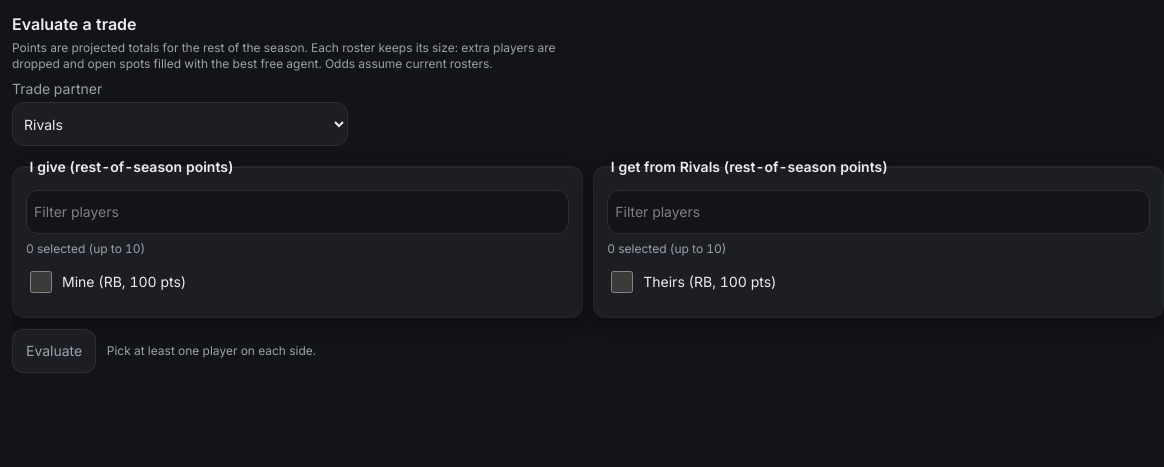
Test: evaluator › offers retry when busy
The image size is (1164, 467).
Click the checkbox labelled "Mine (RB, 100 pts)" at (40, 282), box [30, 271, 52, 293]
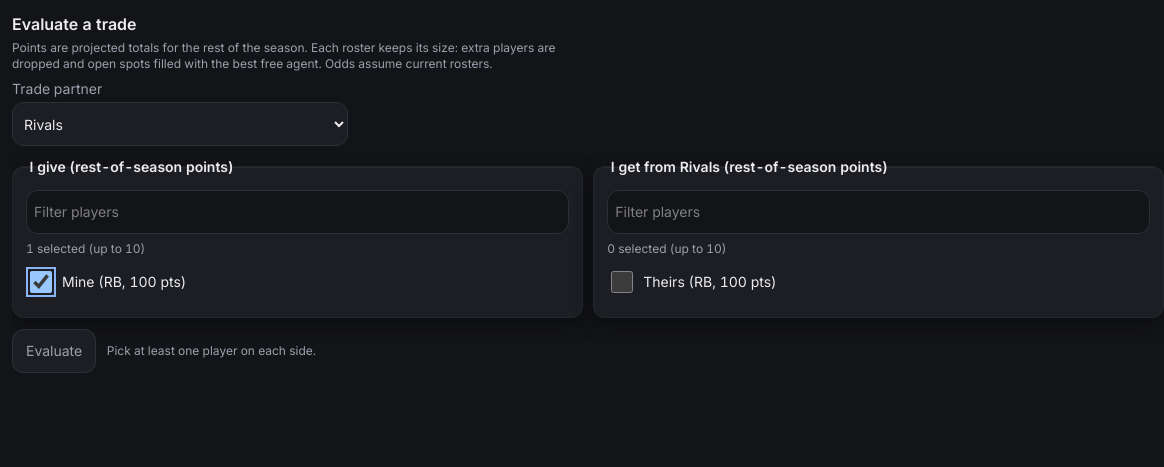
Click the checkbox labelled "Theirs (RB, 100 pts)" at (622, 282), box [611, 271, 633, 293]
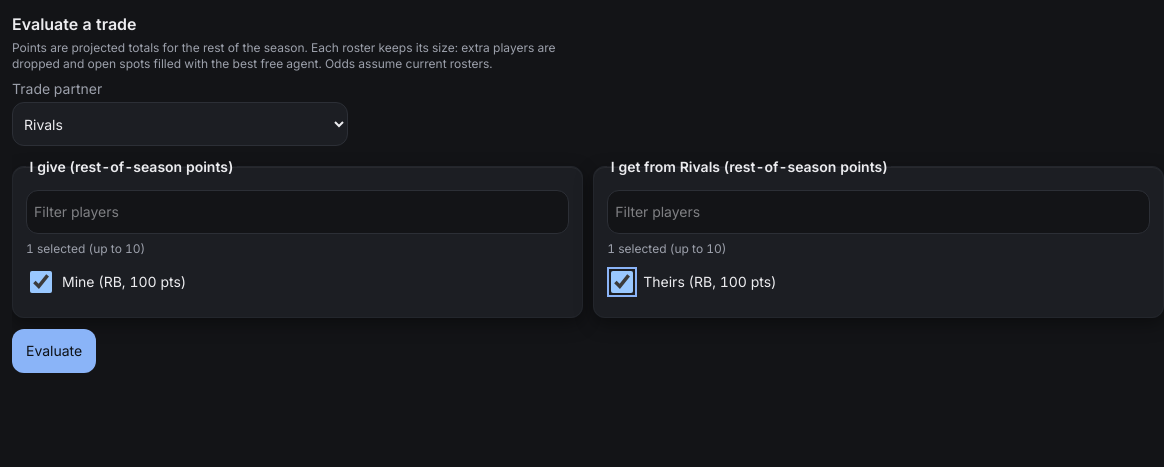
Click the button "Evaluate" at (54, 350), box [12, 328, 96, 372]
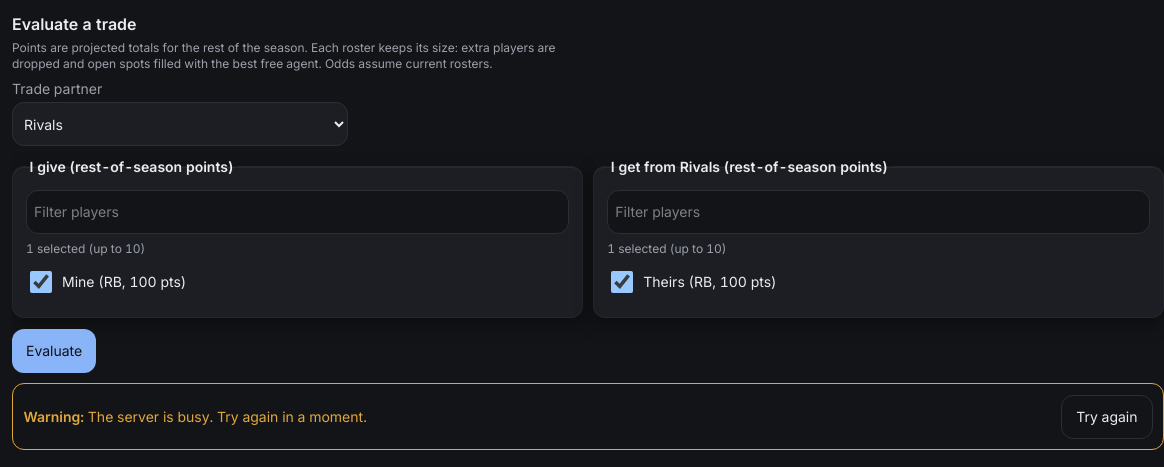
expect the button "Try again" is shown: met, box [1061, 394, 1152, 438]
